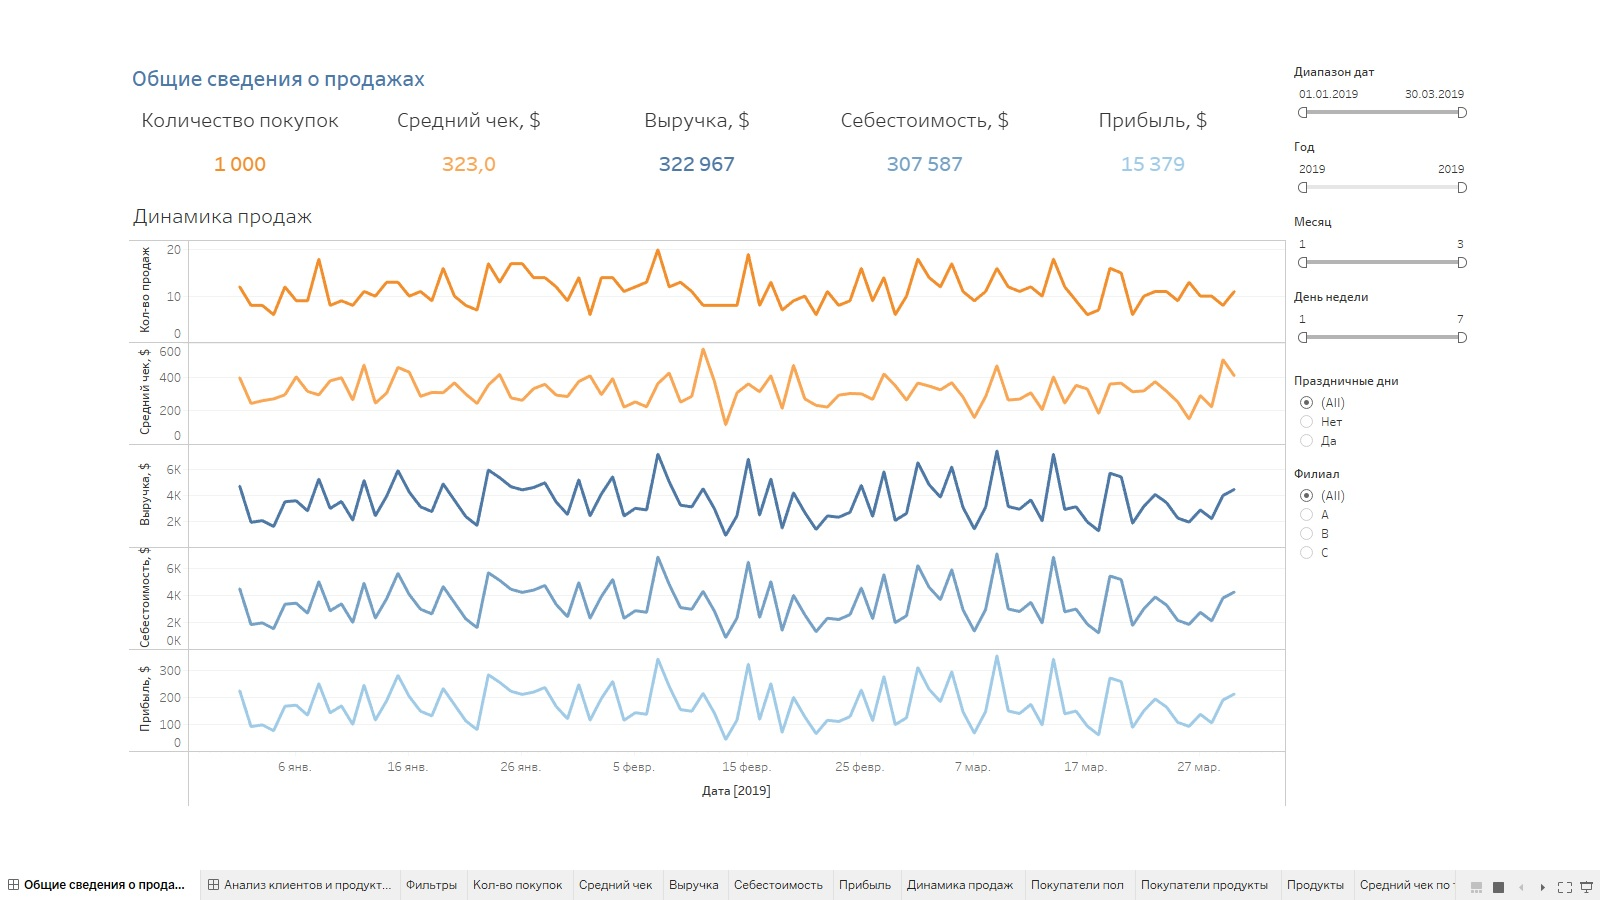

Layout of this report page (visuals, bound fields, positions):
{"tool":"tableau","page":{"name":"Общие сведения о продажах","canvas":[1366,768],"ordinal":1},"visuals":[{"type":"text","box":[8,8,1165,38]},{"type":"filter","title":"Выручка","param":"[federated.0mm8i601j8gw1p1fwdhrr080q4rk].[none:date:qk]","box":[1173,8,185,75]},{"type":"worksheet","title":"Кол-во покупок","mark":"Automatic","box":[8,46,229,96]},{"type":"worksheet","title":"Средний чек","mark":"Automatic","box":[237,46,229,96]},{"type":"worksheet","title":"Выручка","mark":"Automatic","box":[466,46,227,96]},{"type":"worksheet","title":"Себестоимость","mark":"Automatic","box":[693,46,229,96]},{"type":"worksheet","title":"Прибыль","mark":"Automatic","box":[922,46,227,96]},{"type":"filter","title":"Выручка","param":"[federated.0mm8i601j8gw1p1fwdhrr080q4rk].[none:year:qk]","box":[1173,83,185,75]},{"type":"worksheet","title":"Динамика продаж","mark":"Automatic","rows":["fact_sales (dds.fact_sales)_3BEFE247EB9249AF8CCB8348402336E9","Calculation_875387231977488386","total","cogs","gross_income"],"cols":["date"],"box":[8,142,1165,618]},{"type":"filter","title":"Выручка","param":"[federated.0mm8i601j8gw1p1fwdhrr080q4rk].[none:month:qk]","box":[1173,158,185,75]},{"type":"filter","title":"Выручка","param":"[federated.0mm8i601j8gw1p1fwdhrr080q4rk].[none:week_day:qk]","box":[1173,233,185,84]},{"type":"filter","title":"Выручка","param":"[federated.0mm8i601j8gw1p1fwdhrr080q4rk].[none:is_holyday:nk]","box":[1173,317,185,93]},{"type":"filter","title":"Фильтры","param":"[federated.0mm8i601j8gw1p1fwdhrr080q4rk].[none:branch_name:nk]","box":[1173,410,185,119]},{"type":"worksheet","title":"Фильтры","mark":"Automatic","box":[1173,529,185,231]}]}

Visuals, with their boxes on the page's 1366x768 design canvas (x1, y1, x2, y2). These are canvas units, not pixel positions in the 1600x900 screenshot, which may show the page scaled, cropped or inside an application window:
text: BBox(8, 8, 1173, 46)
"Выручка" filter: BBox(1173, 8, 1358, 83)
"Кол-во покупок" worksheet: BBox(8, 46, 237, 142)
"Средний чек" worksheet: BBox(237, 46, 466, 142)
"Выручка" worksheet: BBox(466, 46, 693, 142)
"Себестоимость" worksheet: BBox(693, 46, 922, 142)
"Прибыль" worksheet: BBox(922, 46, 1149, 142)
"Выручка" filter: BBox(1173, 83, 1358, 158)
"Динамика продаж" worksheet: BBox(8, 142, 1173, 760)
"Выручка" filter: BBox(1173, 158, 1358, 233)
"Выручка" filter: BBox(1173, 233, 1358, 317)
"Выручка" filter: BBox(1173, 317, 1358, 410)
"Фильтры" filter: BBox(1173, 410, 1358, 529)
"Фильтры" worksheet: BBox(1173, 529, 1358, 760)
